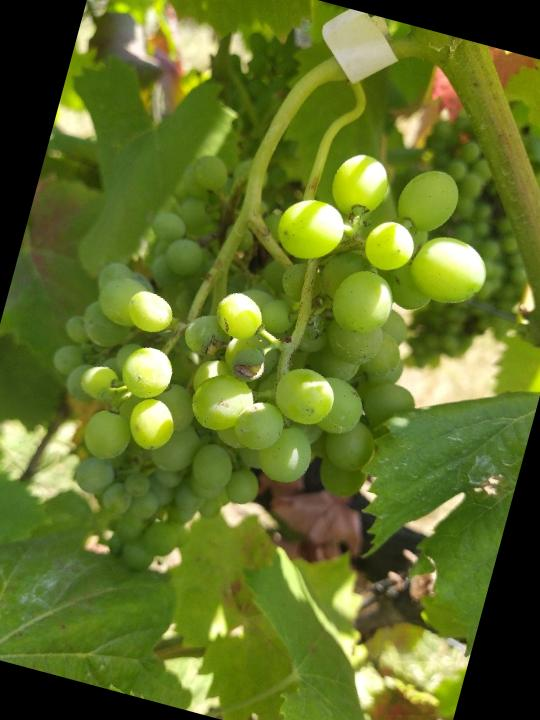grape: (4, 85, 511, 640)
